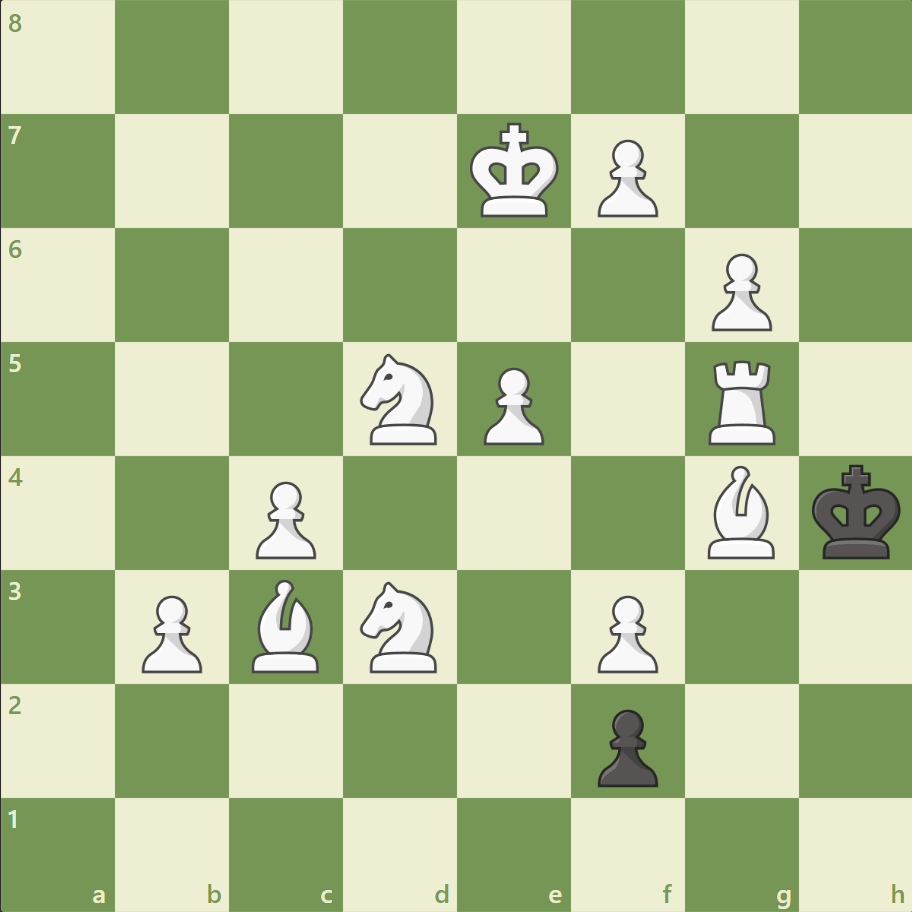B: (698, 460, 782, 563), (244, 574, 328, 676)
K: (465, 117, 565, 225)
N: (351, 348, 449, 450), (351, 575, 449, 677)
P: (701, 246, 776, 337), (474, 359, 549, 450), (247, 473, 322, 564), (133, 586, 208, 677), (588, 132, 662, 223), (588, 586, 662, 677)
R: (700, 352, 783, 449)
k: (806, 458, 906, 566)
p: (588, 700, 662, 791)
